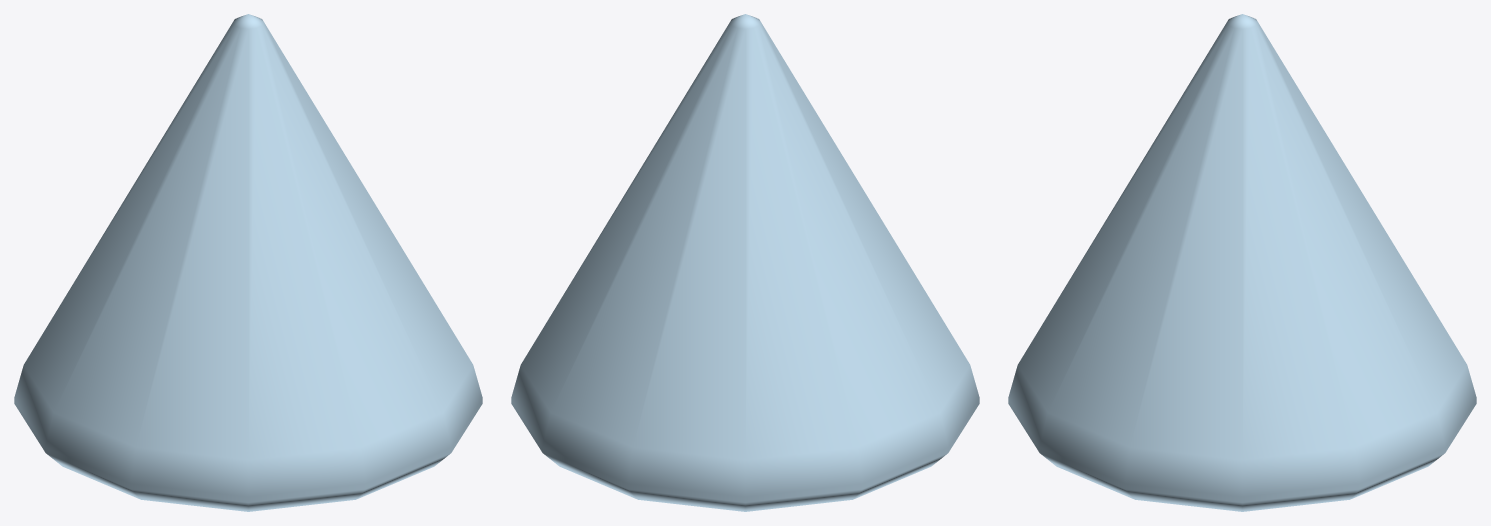
The picture shows the model from 3 angles, left to right: view 1: azimuth 30°, elevation 25°; view 2: azimuth 150°, elevation 25°; view 3: azimuth 270°, elevation 25°; orthographic projection.
Visible parts, largest first — view 1: R4B_Cone; view 2: R4B_Cone; view 3: R4B_Cone.
Part boxes in pixels (<box>): R4B_Cone: <box>14,14,482,511</box>; R4B_Cone: <box>511,14,979,511</box>; R4B_Cone: <box>1008,14,1476,511</box>.
Size of the model in its own units: 0.52 by 0.4987 by 0.52.
